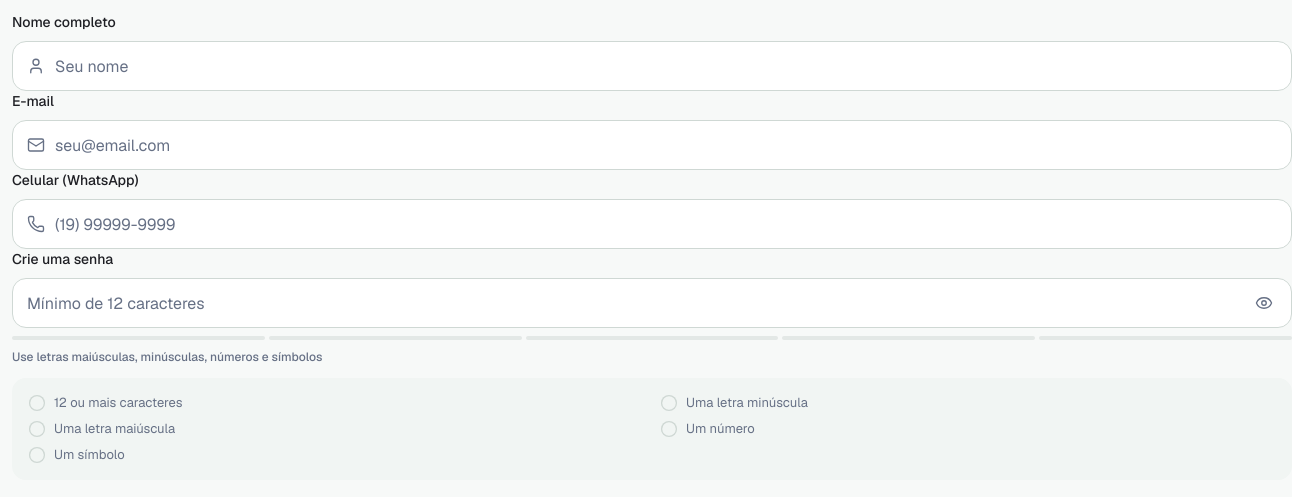
SignupStepCoordinator › deve mostrar a força da senha abaixo do campo enquanto ela é digitada
Expected: the text "Use letras maiúsculas, minúsculas, números e símbolos" is shown, left=12, top=349, right=322, bottom=365
Step 1. Type "Senha-Segura123" into the password field labelled "Crie uma senha" → (631, 303), box left=27, top=279, right=1235, bottom=327
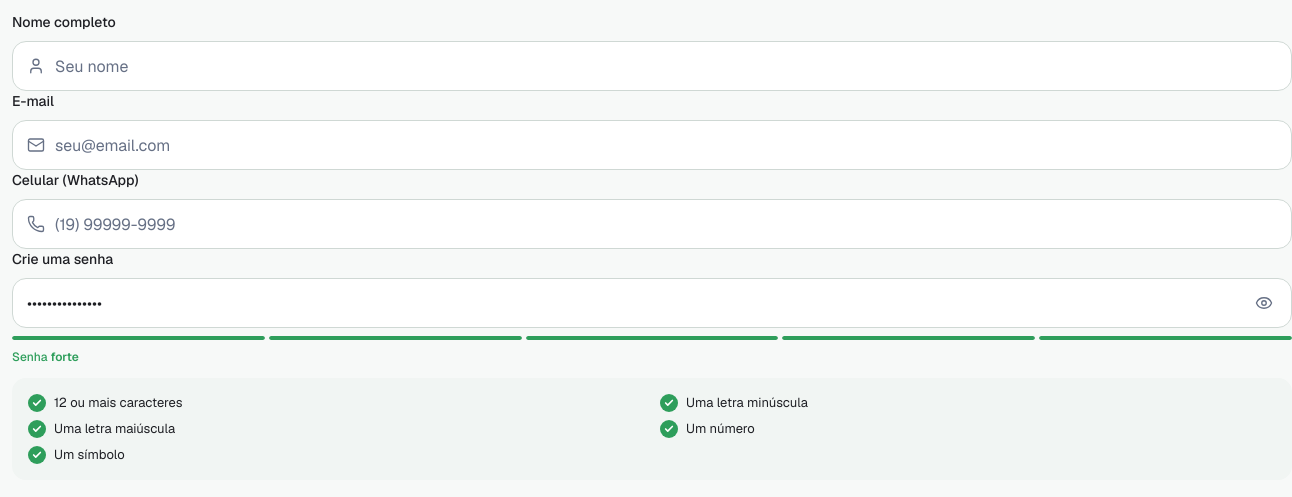
Expected: the list named "Requisitos da senha" is shown, left=12, top=378, right=1291, bottom=480
Expected: the message shows "forte", left=50, top=349, right=79, bottom=365
